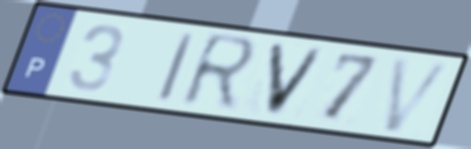3: (68, 22, 126, 93)
7: (321, 51, 382, 125)
I: (153, 29, 199, 106)
R: (175, 30, 262, 115)
V: (379, 55, 457, 135), (262, 39, 330, 120)
